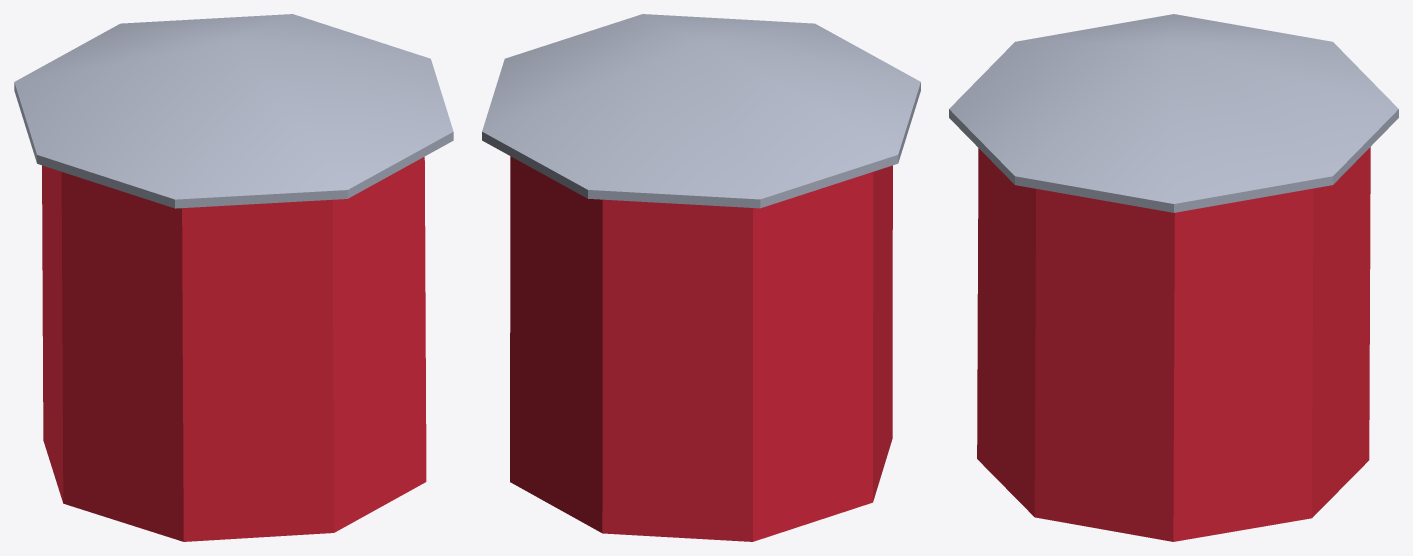
The model's file is Setirna.fbx.
The picture shows the model from 3 angles, left to right: view 1: azimuth 30°, elevation 25°; view 2: azimuth 150°, elevation 25°; view 3: azimuth 270°, elevation 25°; orthographic projection.
Parts seen in each view (by area): view 1: polySurface1, polySurface2; view 2: polySurface1, polySurface2; view 3: polySurface1, polySurface2.
Part boxes in pixels (left/top/right/bottom): polySurface1: left=42, top=157, right=426, bottom=541; polySurface2: left=14, top=14, right=453, bottom=208; polySurface1: left=510, top=156, right=892, bottom=541; polySurface2: left=482, top=14, right=920, bottom=208; polySurface1: left=977, top=147, right=1370, bottom=541; polySurface2: left=949, top=14, right=1398, bottom=212.
Size of the model in its own units: 10.67 by 10.88 by 10.67.
